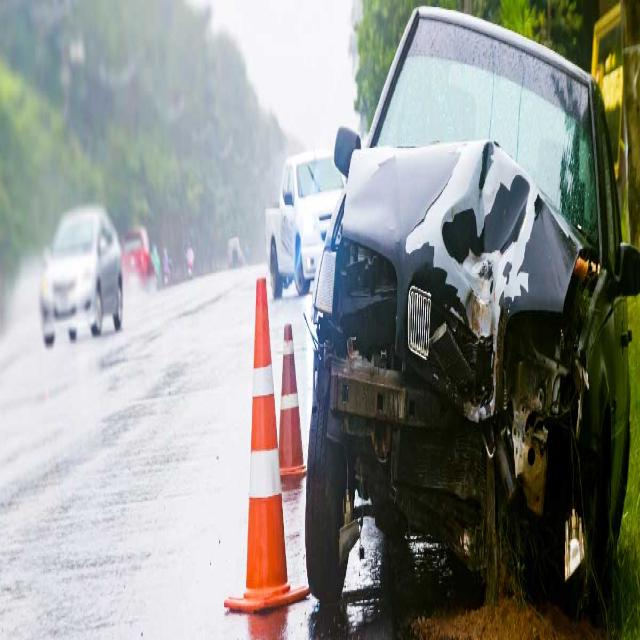Accident: (275, 0, 635, 640)
